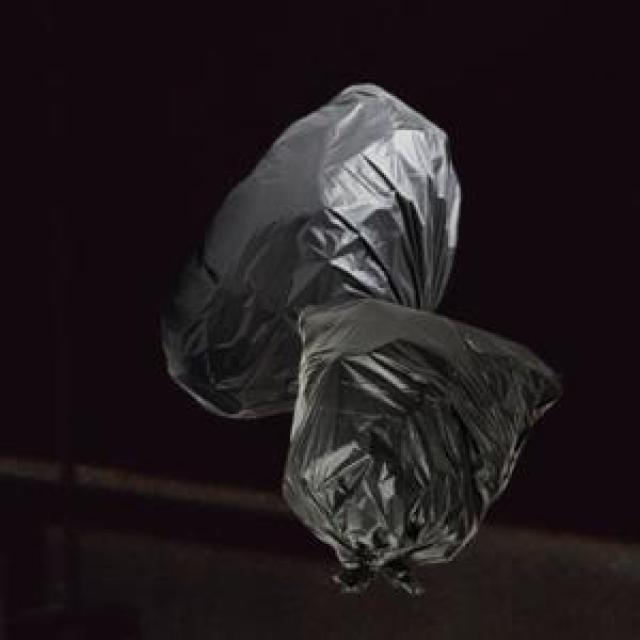waste: (164, 85, 561, 591)
